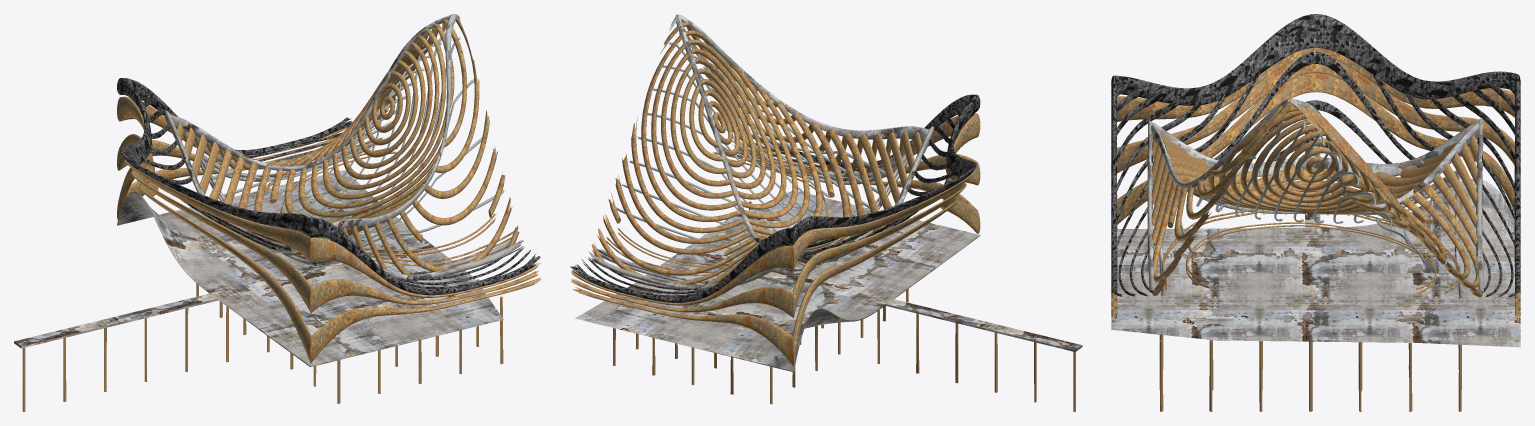
Rendered from mekan1-opt-v1.glb.
3 renders of one model, left to right at view 1: azimuth 30°, elevation 25°; view 2: azimuth 150°, elevation 25°; view 3: azimuth 270°, elevation 25°, orthographic. The views are drawn at different scales.
Parts seen in each view (by area): view 1: Merged Objects.001, Object_8.001, Object_55.001, Object_56.001; view 2: Merged Objects.001, Object_8.001, Object_55.001, Object_56.001; view 3: Object_8.001, Merged Objects.001, Object_55.001, Object_56.001.
Part boxes in pixels (left/top/right/bottom): Merged Objects.001: left=22, top=14, right=541, bottom=411; Object_8.001: left=14, top=14, right=523, bottom=367; Object_55.001: left=117, top=78, right=540, bottom=295; Object_56.001: left=213, top=33, right=504, bottom=246; Merged Objects.001: left=571, top=14, right=1075, bottom=411; Object_8.001: left=575, top=14, right=1082, bottom=372; Object_55.001: left=570, top=94, right=980, bottom=302; Object_56.001: left=616, top=33, right=886, bottom=267; Object_8.001: left=1111, top=98, right=1520, bottom=347; Merged Objects.001: left=1111, top=48, right=1520, bottom=411; Object_55.001: left=1111, top=14, right=1520, bottom=297; Object_56.001: left=1177, top=121, right=1437, bottom=264.
Size of the model in its own units: 54.23 by 36.36 by 42.21.
4 materials, 3 textured.
